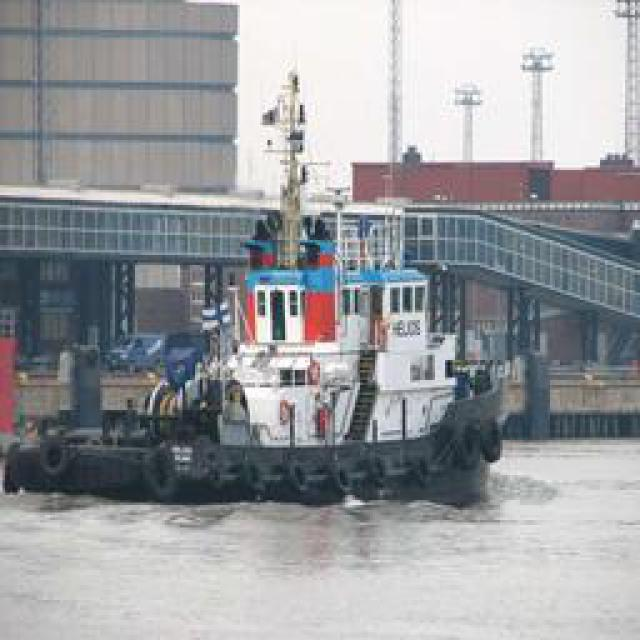Ship: (2, 201, 530, 499)
